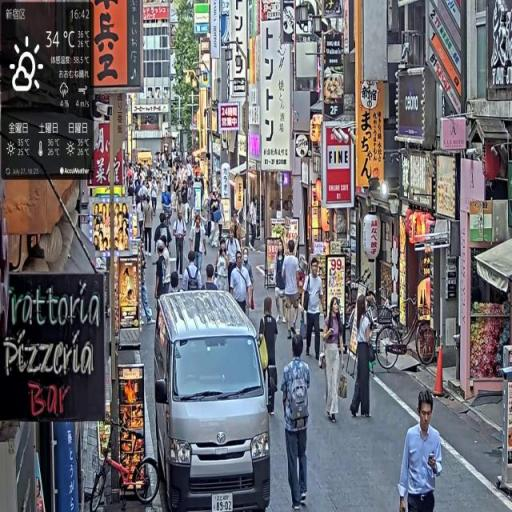person: (398, 388, 444, 512), (281, 330, 312, 512), (349, 292, 378, 423), (321, 296, 347, 427), (258, 296, 279, 417), (303, 256, 326, 362), (283, 243, 301, 335), (231, 252, 254, 316), (190, 212, 208, 287), (173, 207, 188, 278), (216, 242, 233, 293), (184, 248, 203, 293)
